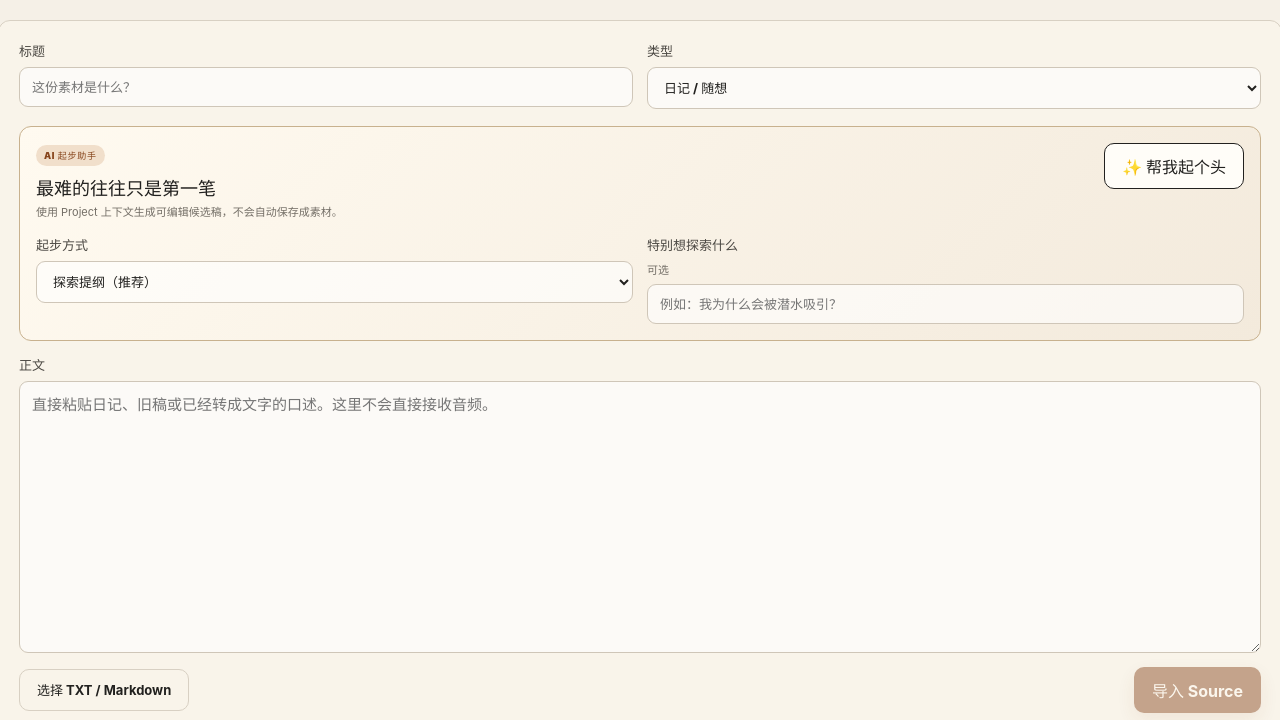
Test: SourceImporter AI starter › does not offer AI generation for writing samples or voice transcripts
Expected: the button "✨ 帮我起个头" is enabled, [1104,143,1244,189]
Select "写作样本" in the dropdown labelled "类型": {"x": 954, "y": 88} [647,67,1261,109]
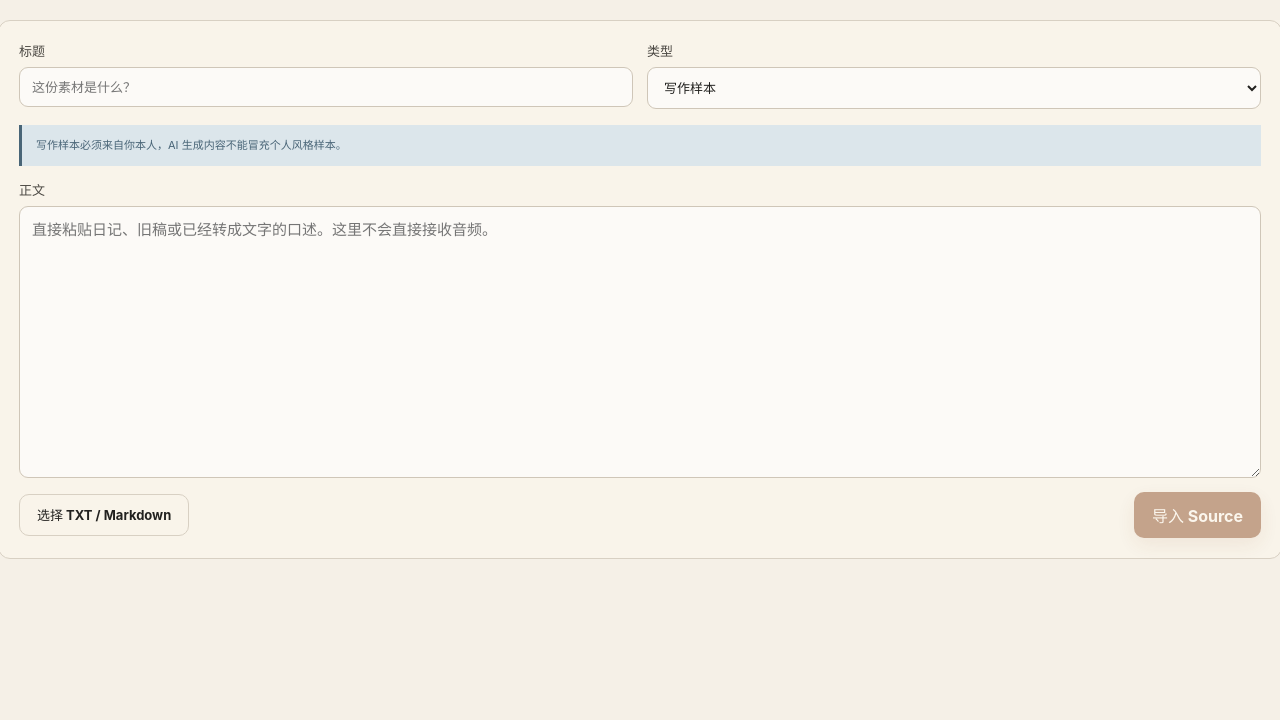
Result: the button "✨ 帮我起个头" is gone
Result: the text "写作样本必须来自你本人，AI 生成内容不能冒充个人风格样本。" is shown at [19,125,1261,166]
Select "口述转写" in the dropdown labelled "类型": {"x": 954, "y": 88} [647,67,1261,109]
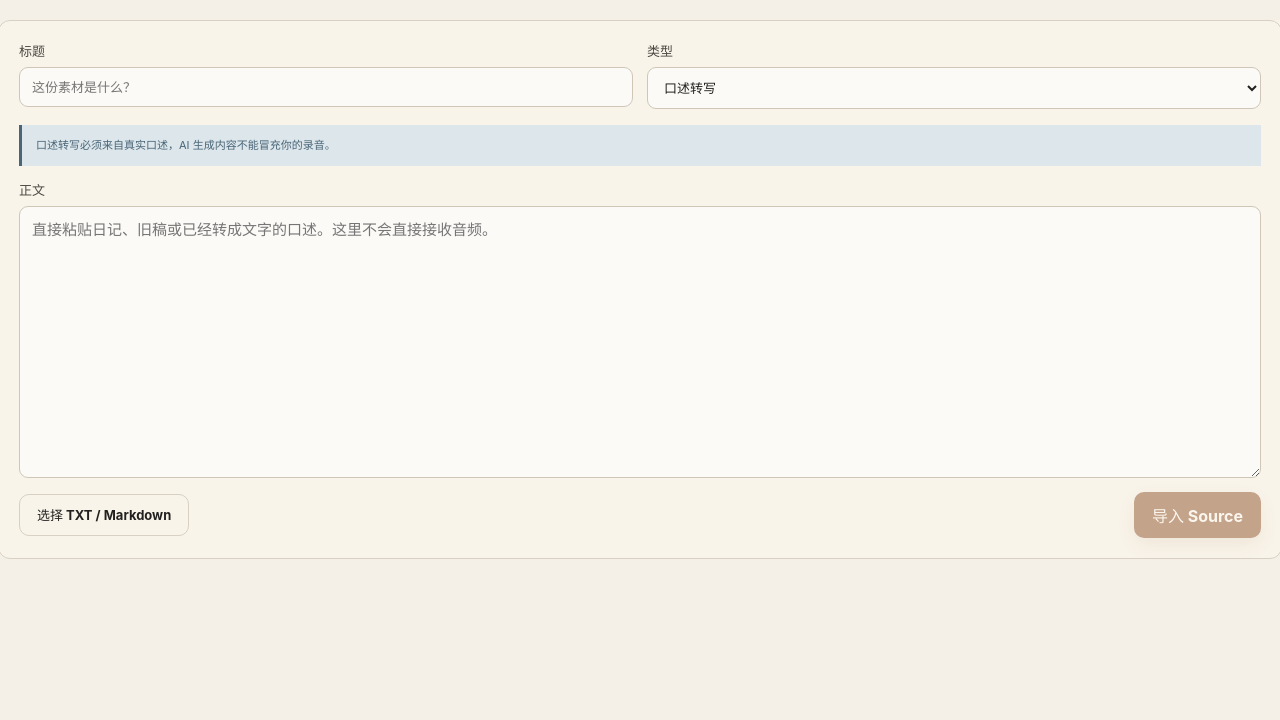
Expected: the button "✨ 帮我起个头" is not shown
Result: the text "口述转写必须来自真实口述，AI 生成内容不能冒充你的录音。" is shown at [19,125,1261,166]
